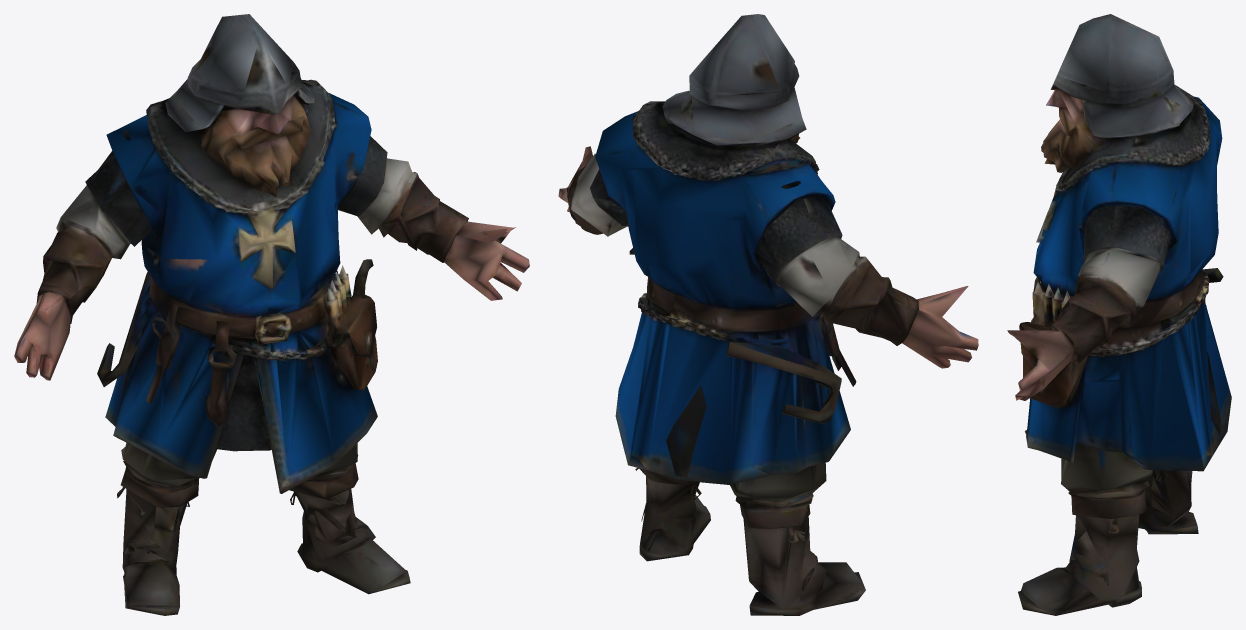
Rendered from dwf_arch_lo.glb.
3 views of the same model, side by side, from view 1: azimuth 30°, elevation 25°; view 2: azimuth 150°, elevation 25°; view 3: azimuth 270°, elevation 25° (orthographic). The views are drawn at different scales.
Visible parts, largest first — view 1: node_0; view 2: node_0; view 3: node_0.
Boxes of the visible parts, x1,y1,x2,y2 form: node_0: (14,14,529,615); node_0: (558,14,978,615); node_0: (1007,14,1231,615).
Bounding box in the file's own units: 0.9317 × 1.07 × 0.4018.
1 material, 1 textured.
